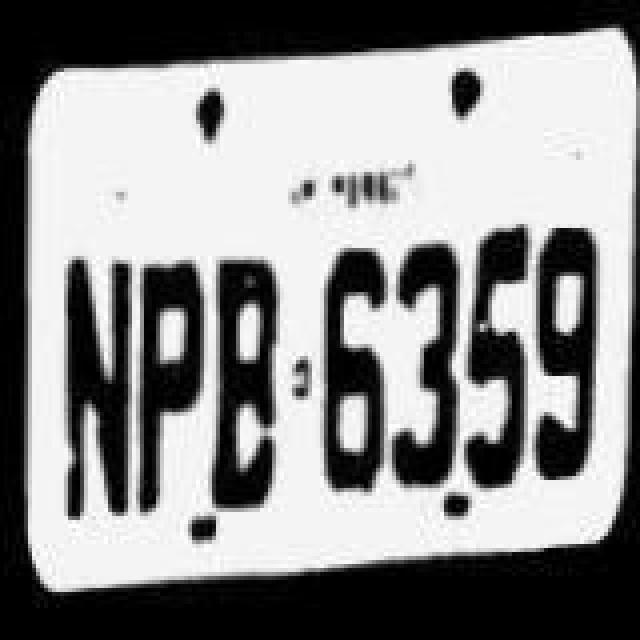3: (388, 232, 464, 496)
5: (462, 206, 534, 494)
6: (314, 242, 394, 506)
9: (532, 210, 608, 486)
B: (202, 248, 294, 520)
N: (56, 248, 136, 536)
P: (128, 252, 208, 520)
